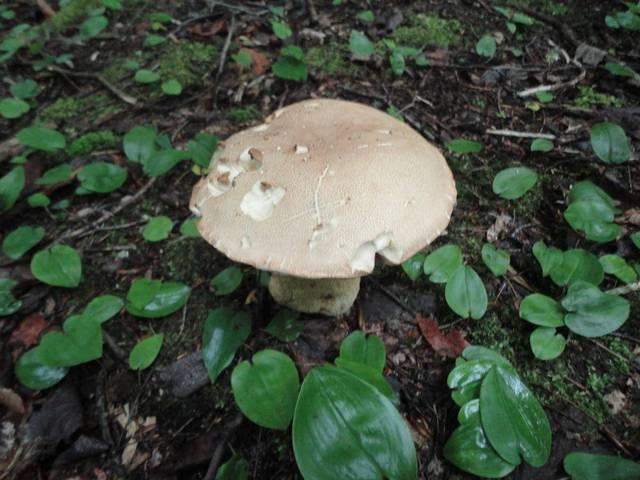Non-edible Mushroom: (187, 96, 458, 317)
